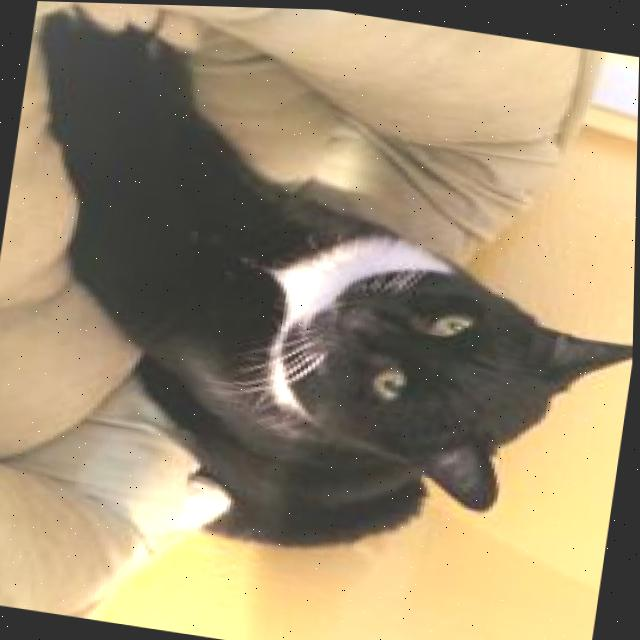Tuxedo: (0, 0, 640, 595)
